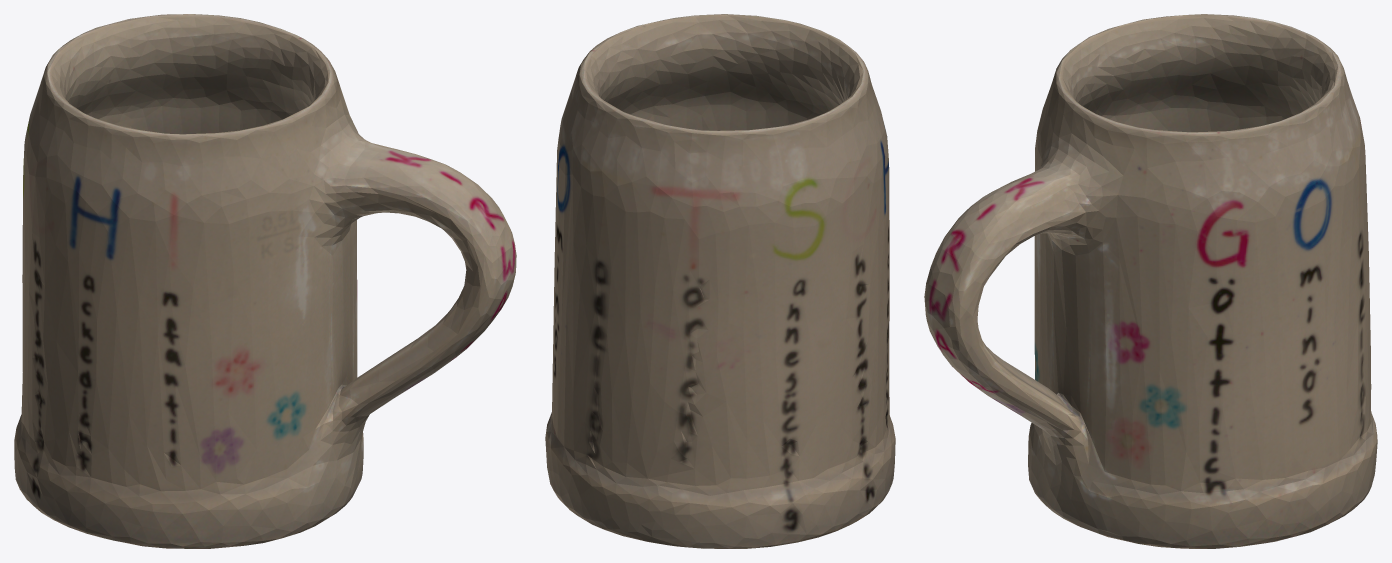
File: E6D5AF89-0DCE-6043-83A5-E7B84FA5E97D_2k.glb
3 views of the same model, side by side, from view 1: azimuth 30°, elevation 25°; view 2: azimuth 150°, elevation 25°; view 3: azimuth 270°, elevation 25° (orthographic).
Visible parts, largest first — view 1: Krug Akronym_5k_2k; view 2: Krug Akronym_5k_2k; view 3: Krug Akronym_5k_2k.
Boxes of the visible parts, box(x1,y1,x2,y2) form: Krug Akronym_5k_2k: box(14, 14, 516, 548); Krug Akronym_5k_2k: box(545, 14, 895, 548); Krug Akronym_5k_2k: box(924, 14, 1377, 548).
Bounding box in the file's own units: 0.1162 × 0.1273 × 0.1284.
Materials: 1 (1 with a texture image).
